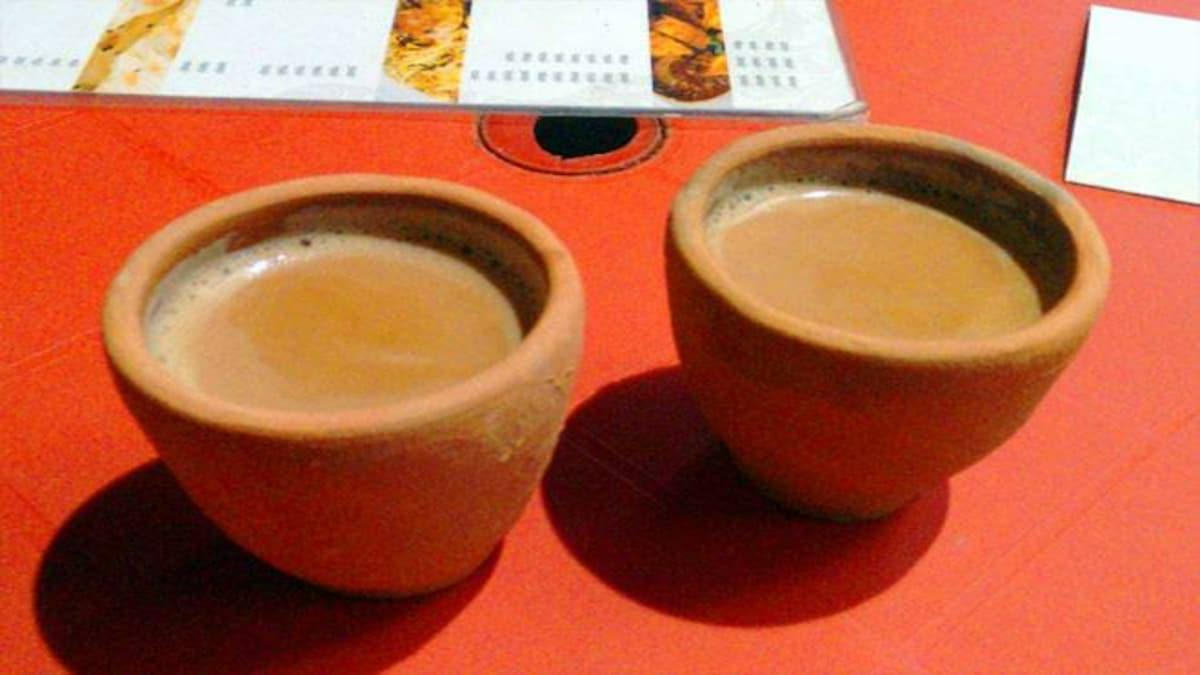Chai: (144, 219, 534, 418), (711, 180, 1044, 340)
